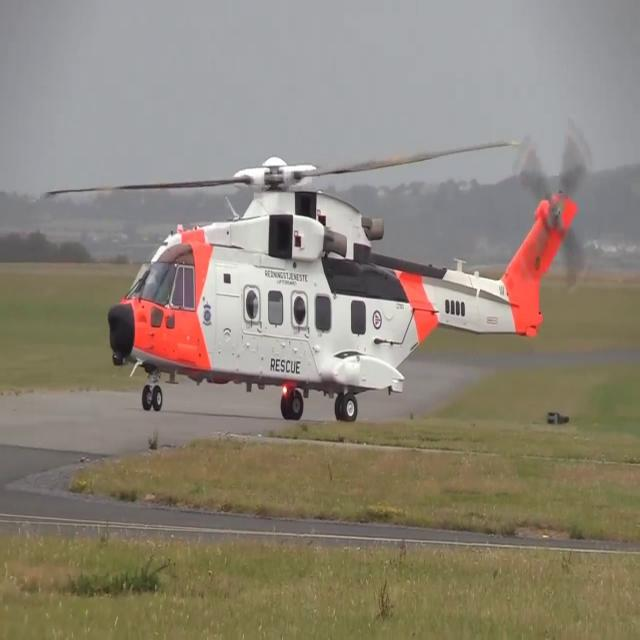helicopter: (47, 125, 591, 425)
